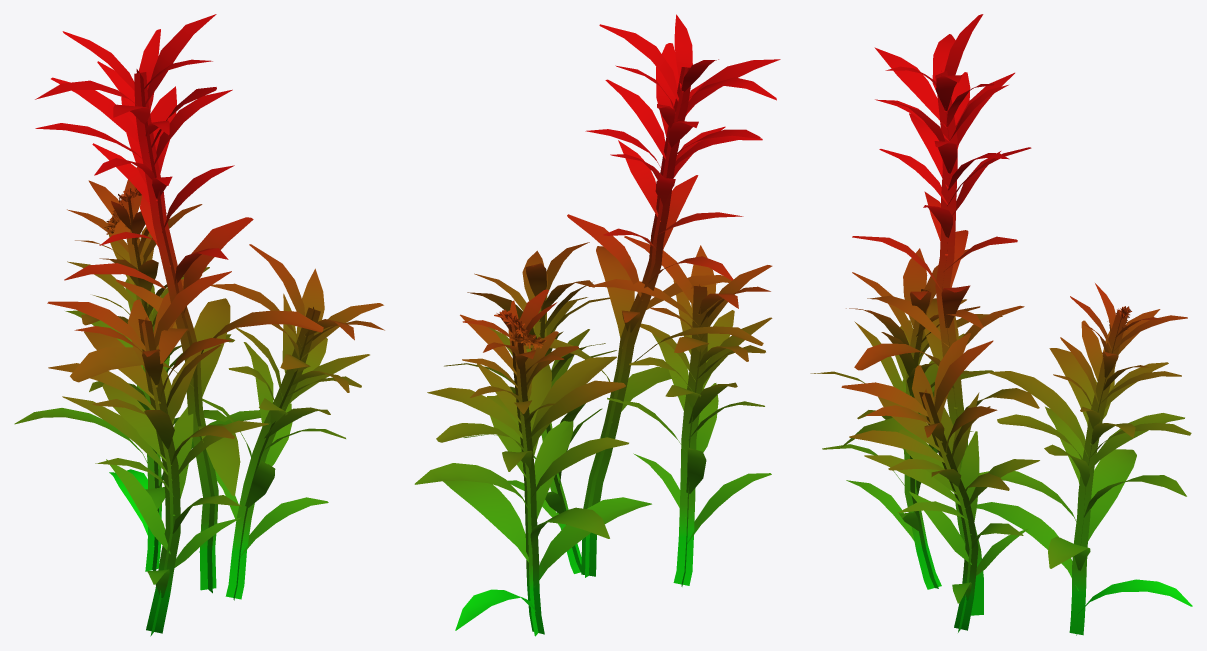
The model's file is Goldenrods_LOD3_Var7.fbx.
The picture shows the model from 3 angles, left to right: view 1: azimuth 30°, elevation 25°; view 2: azimuth 150°, elevation 25°; view 3: azimuth 270°, elevation 25°; orthographic projection. The views are drawn at different scales.
Visible parts, largest first — view 1: _ouif_Var7_LOD3; view 2: _ouif_Var7_LOD3; view 3: _ouif_Var7_LOD3.
Boxes of the visible parts, x1,y1,x2,y2 form: _ouif_Var7_LOD3: (14, 14, 384, 636); _ouif_Var7_LOD3: (414, 14, 780, 636); _ouif_Var7_LOD3: (810, 14, 1192, 635).
Bounding box in the file's own units: 50.71 × 87.92 × 54.61.
